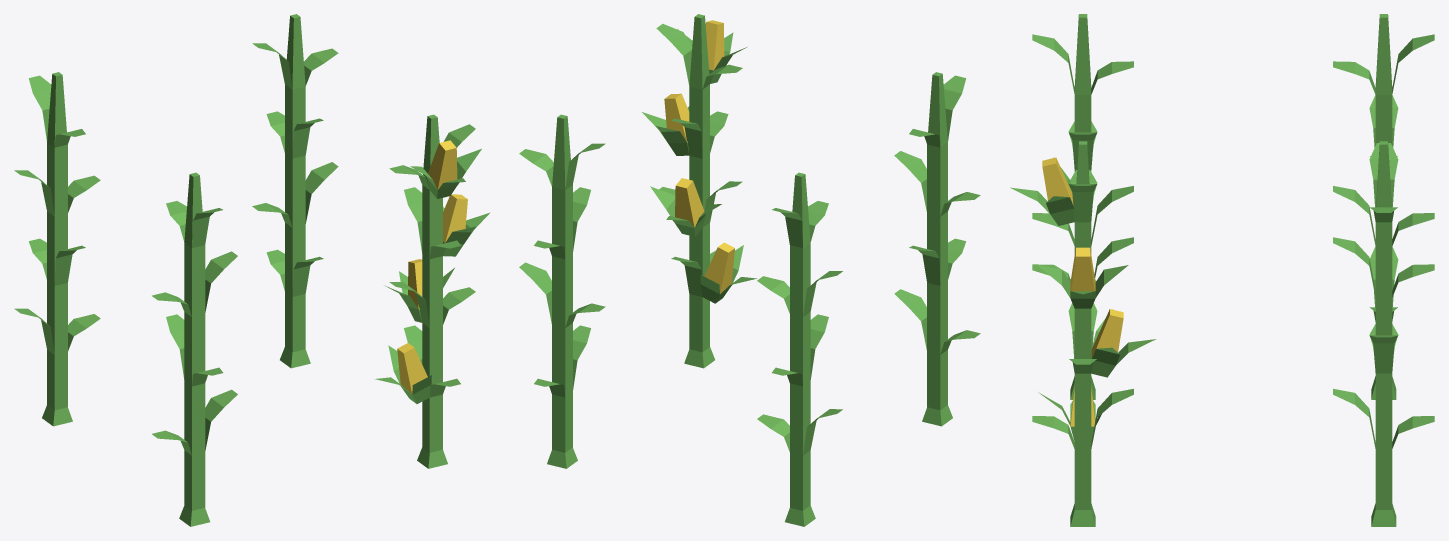
Rendered from crop-corn.glb.
3 views of the same model, side by side, from view 1: azimuth 30°, elevation 25°; view 2: azimuth 150°, elevation 25°; view 3: azimuth 270°, elevation 25° (orthographic). The views are drawn at different scales.
Visible parts, largest first — view 1: crop-corn (×2); view 2: crop-corn (×2); view 3: crop-corn (×2).
Boxes of the visible parts, x1,y1,x2,y2 form: crop-corn (×2): (14, 14, 490, 526); crop-corn (×2): (519, 14, 980, 526); crop-corn (×2): (1010, 14, 1434, 526).
Bounding box in the file's own units: 0.6364 × 0.625 × 0.6364.
